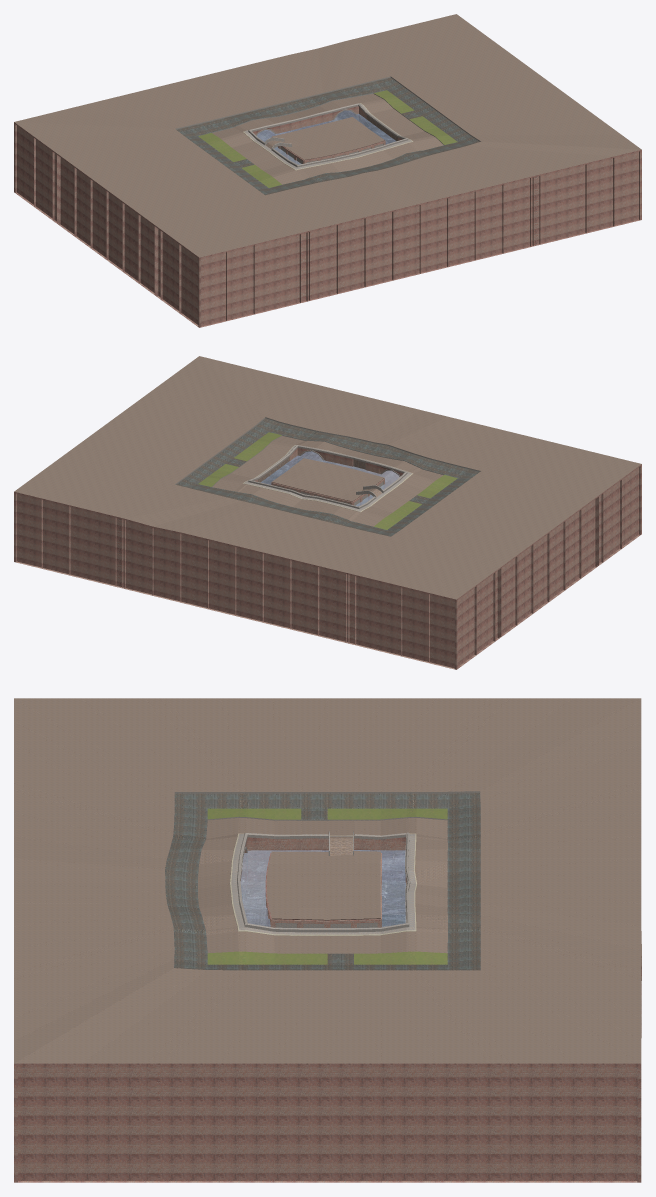
The model's file is townground1.fbx.
The picture shows the model from 3 angles, top to bottom: view 1: azimuth 30°, elevation 25°; view 2: azimuth 150°, elevation 25°; view 3: azimuth 270°, elevation 25°; orthographic projection. The views are drawn at different scales.
Visible parts, largest first — view 1: Plane, Plane.001; view 2: Plane, Plane.001; view 3: Plane, Plane.001.
Part boxes in pixels (left/top/right/bottom): Plane: left=14, top=14, right=641, bottom=327; Plane.001: left=257, top=110, right=395, bottom=164; Plane: left=14, top=356, right=641, bottom=669; Plane.001: left=261, top=451, right=399, bottom=506; Plane: left=14, top=698, right=641, bottom=1182; Plane.001: left=240, top=850, right=405, bottom=927.
Bounding box in the file's own units: 15781 × 2550 × 11461.
7 materials, 7 textured.
